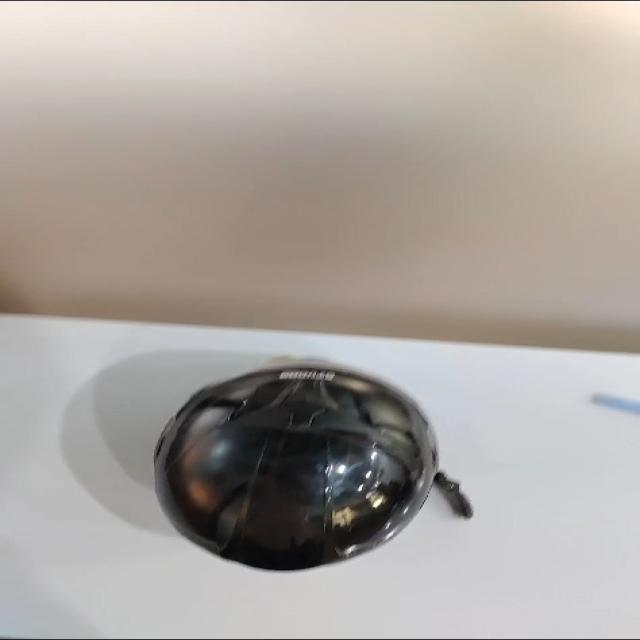helmet: (138, 362, 435, 575)
